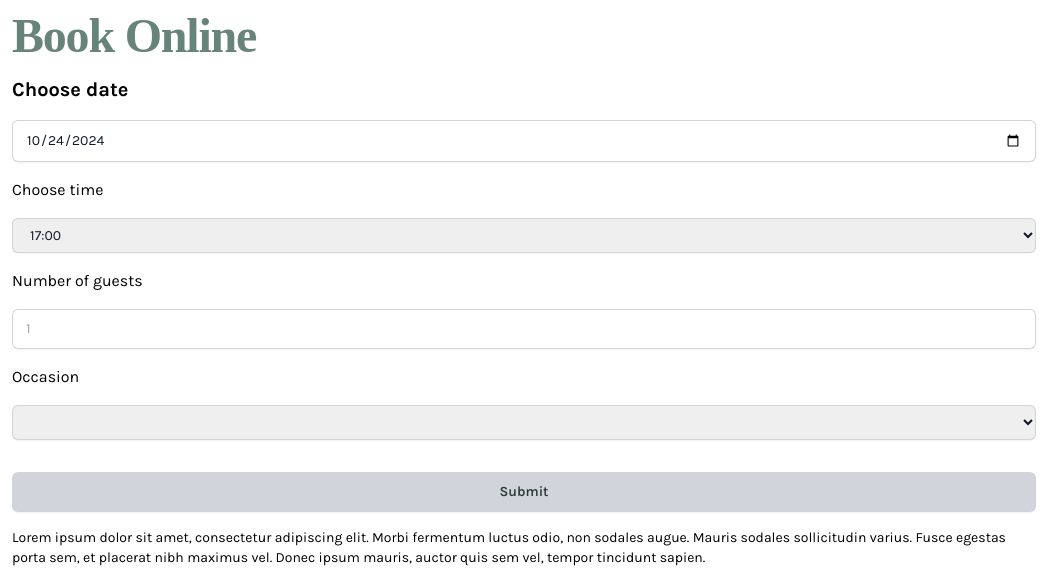
Scenario: BookingForm › enables submit button when form is valid
Type "2023-10-10" into the date field labelled "Choose date".
click(524, 141); type("2023-10-10")  # box x1=12 y1=120 x2=1036 y2=162
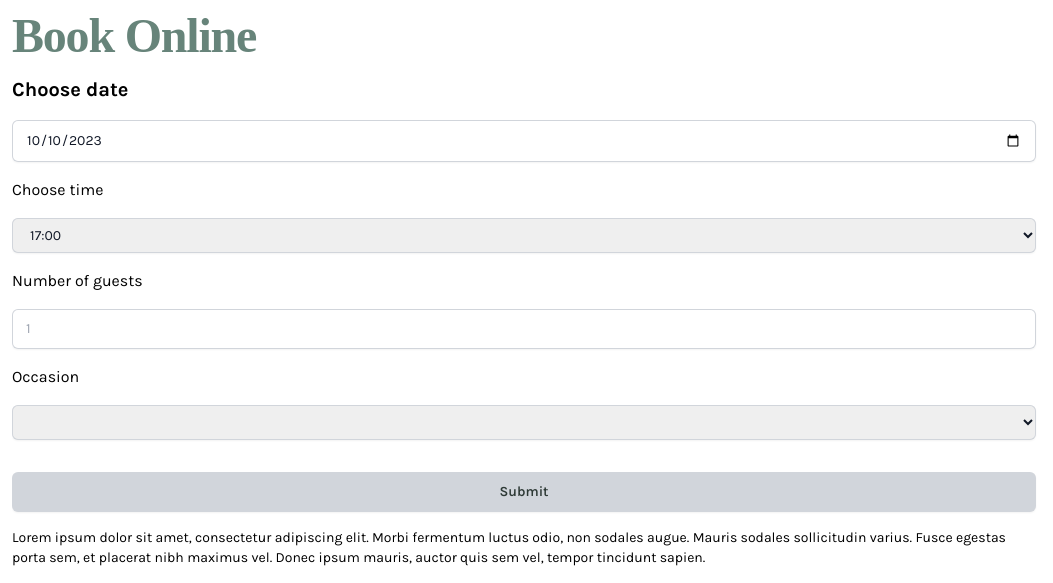
Select "17:00" in the dropdown labelled "Choose time" at (524, 236), box x1=12 y1=218 x2=1036 y2=253
Type "2" into the number field labelled "Number of guests".
click(524, 329); type("2")  # box x1=12 y1=309 x2=1036 y2=349
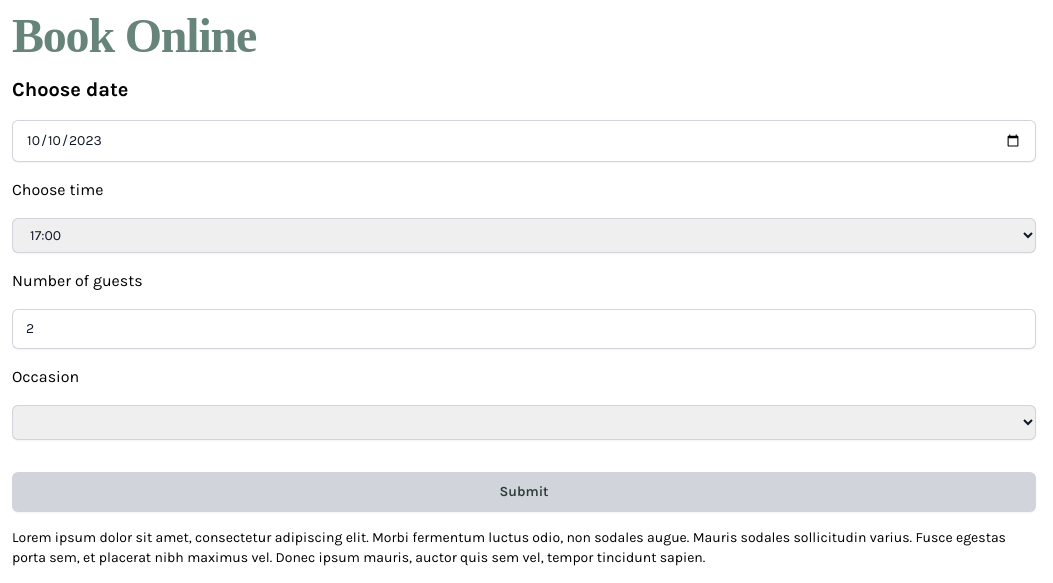
Select "Birthday" in the dropdown labelled "Occasion" at (524, 422), box x1=12 y1=405 x2=1036 y2=440
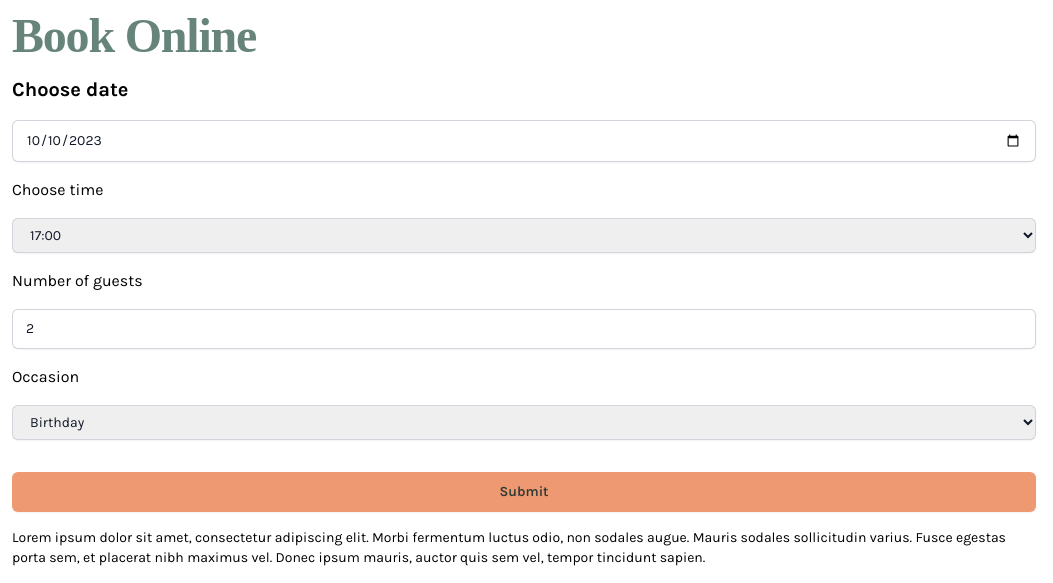
Expected: the button "Submit" is enabled, x1=12 y1=472 x2=1036 y2=512
